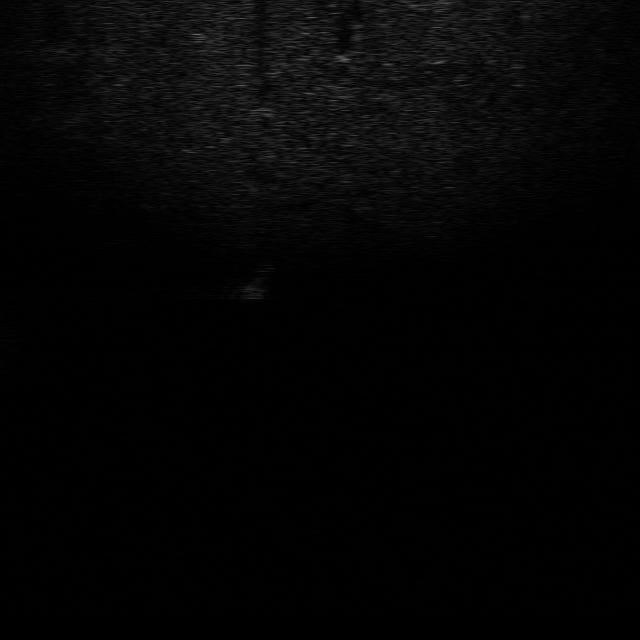human body: (232, 263, 276, 304)
